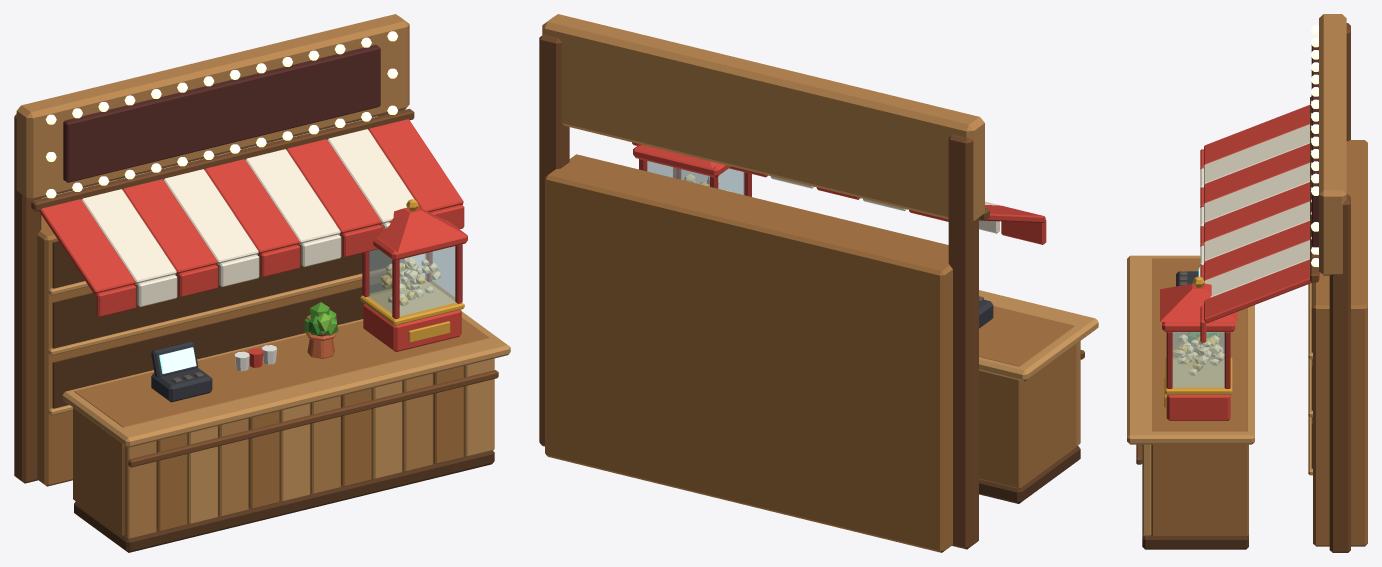
Rendered from concession_counter.glb.
3 views of the same model, side by side, from view 1: azimuth 30°, elevation 25°; view 2: azimuth 150°, elevation 25°; view 3: azimuth 270°, elevation 25° (orthographic). The views are drawn at different scales.
Parts seen in each view (by area): view 1: concession_counter; view 2: concession_counter; view 3: concession_counter.
Boxes of the visible parts, x1,y1,x2,y2 form: concession_counter: (14,14,510,552); concession_counter: (539,14,1098,552); concession_counter: (1127,14,1367,552).
Size of the model in its own units: 2.82 by 2.62 by 1.58.
